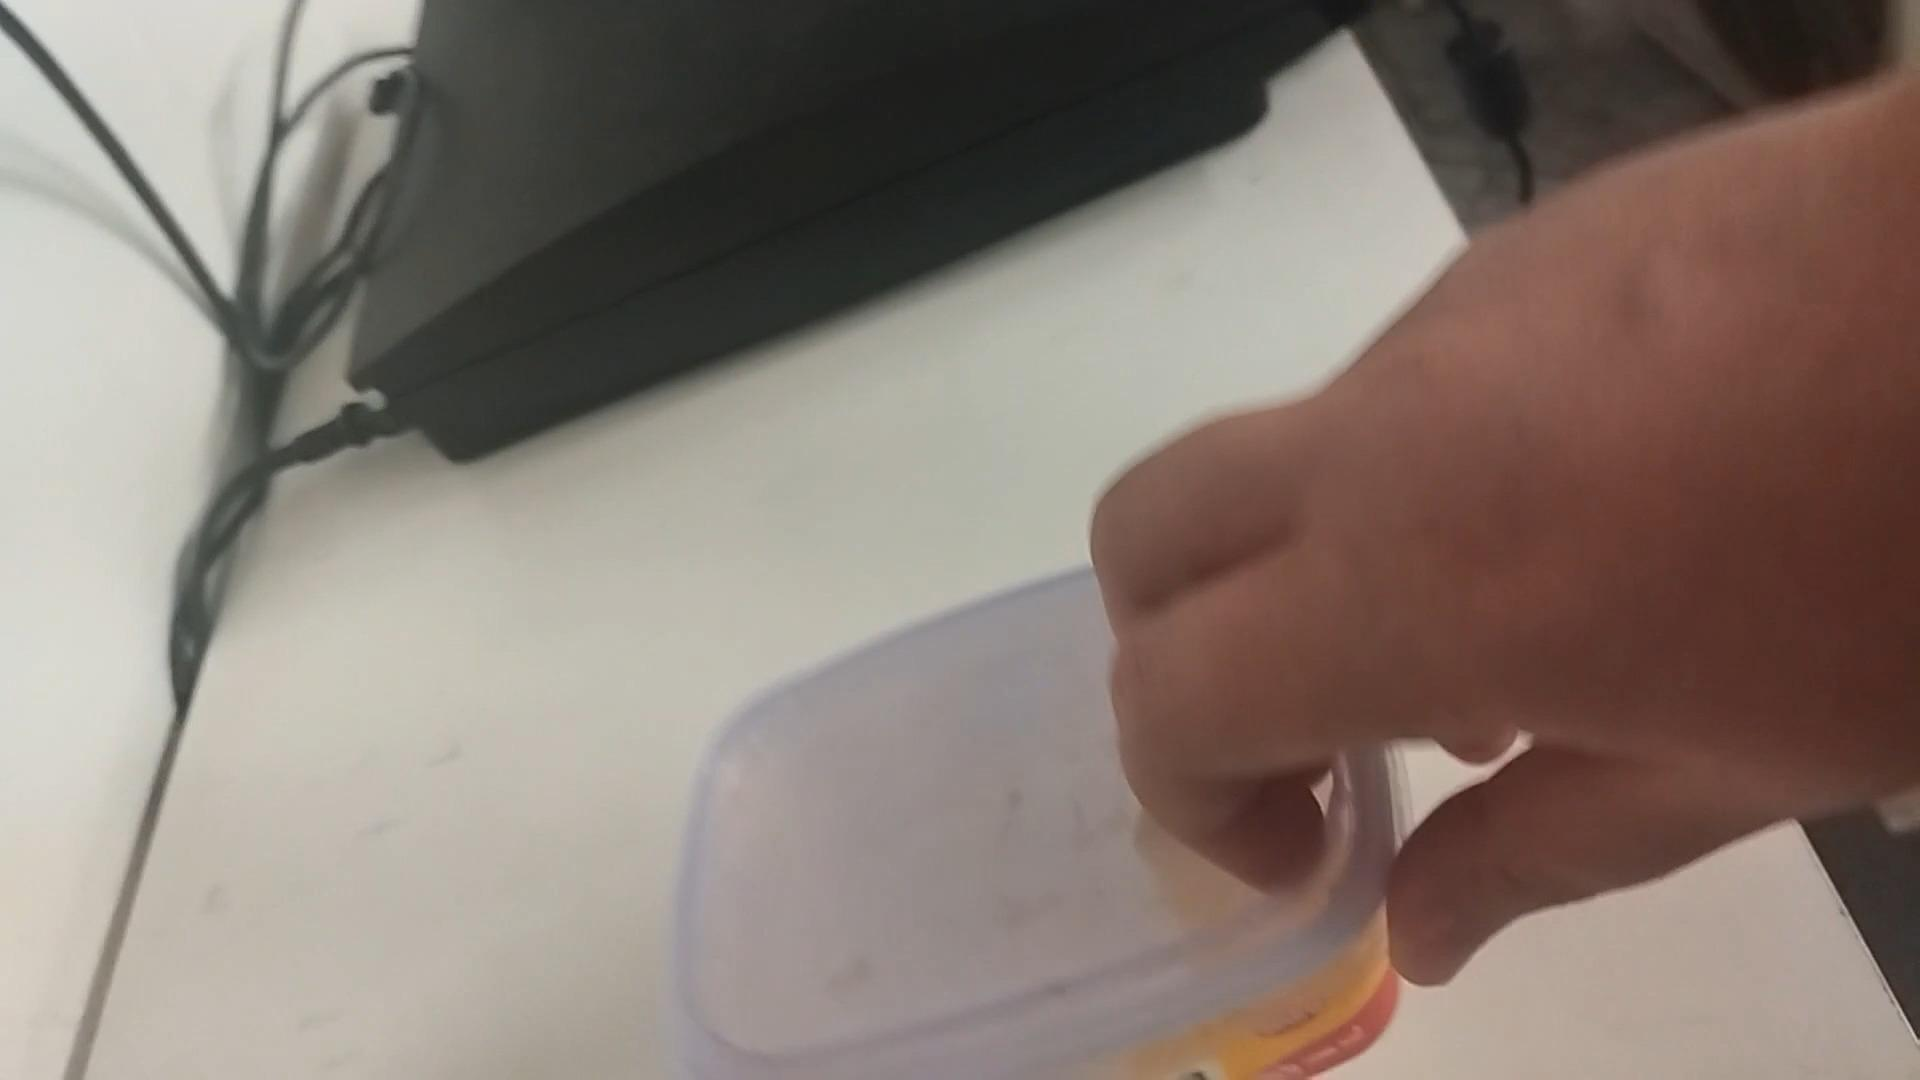butter: (662, 559, 1415, 1071)
